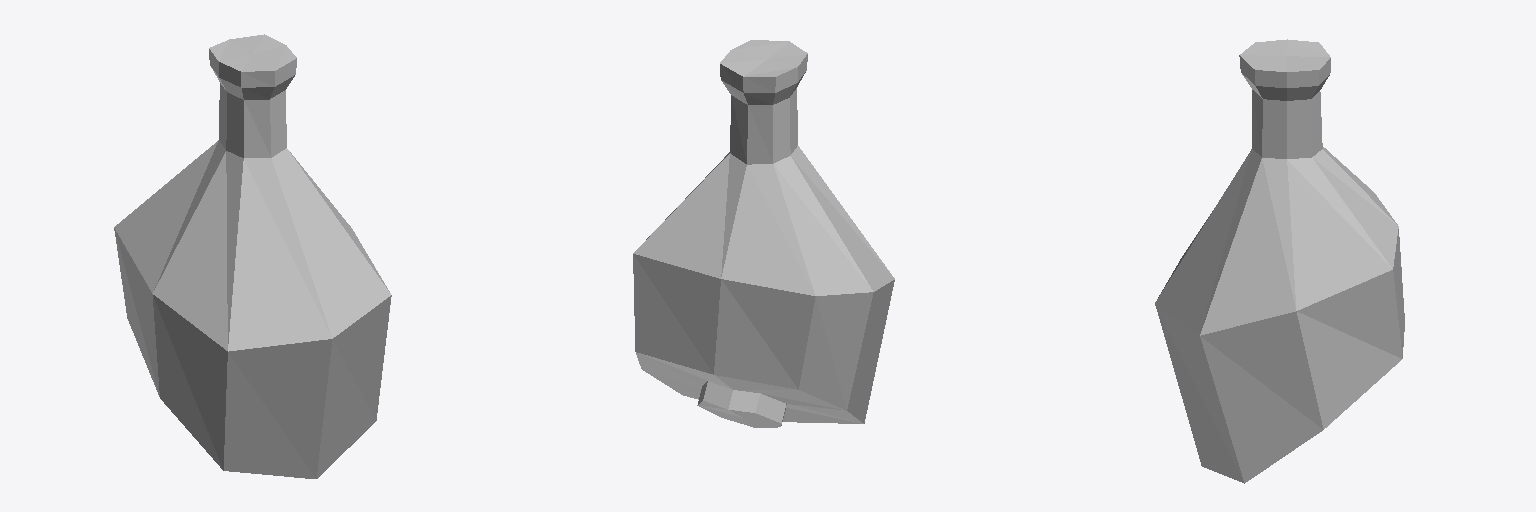
The model's file is misc021.obj.
3 views of the same model, side by side, from view 1: azimuth 30°, elevation 25°; view 2: azimuth 150°, elevation 25°; view 3: azimuth 270°, elevation 25° (orthographic).
Visible parts, largest first — view 1: misc021; view 2: misc021; view 3: misc021.
Part boxes in pixels (left/top/right/bottom): misc021: left=114, top=34, right=391, bottom=478; misc021: left=633, top=40, right=894, bottom=427; misc021: left=1155, top=39, right=1404, bottom=483.
Size of the model in its own units: 0.0089 by 0.0162 by 0.0092.